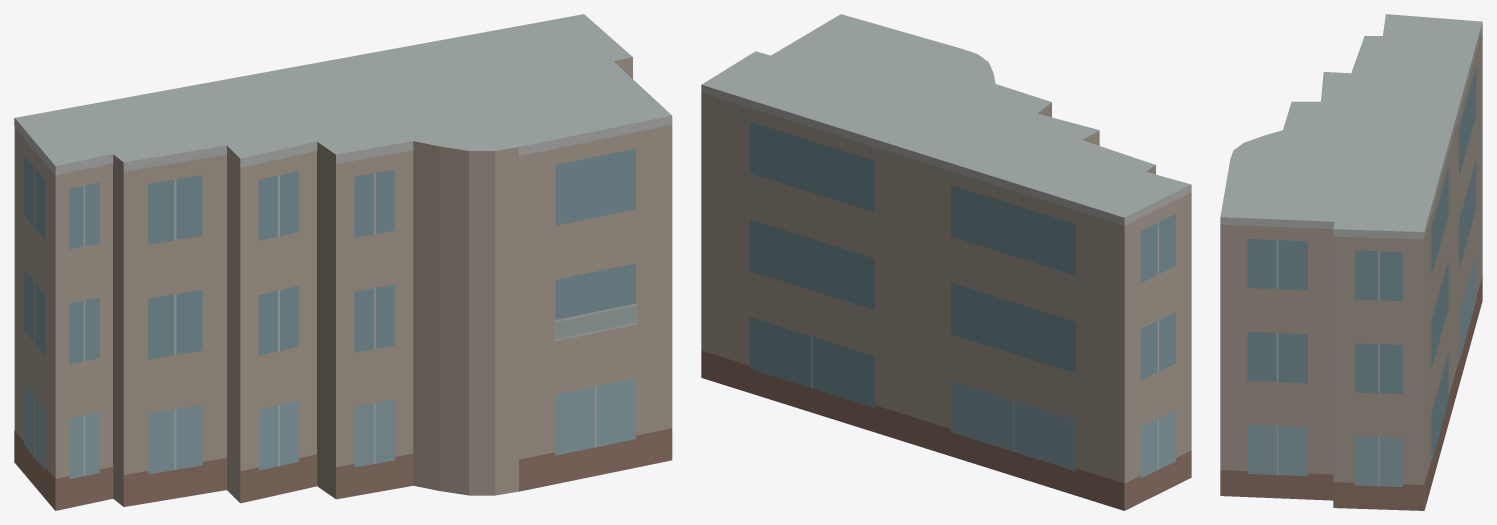
File: survey-upis-32668587.glb
The picture shows the model from 3 angles, left to right: view 1: azimuth 30°, elevation 25°; view 2: azimuth 150°, elevation 25°; view 3: azimuth 270°, elevation 25°; orthographic projection. The views are drawn at different scales.
Visible parts, largest first — view 1: survey-upis-32668587.tmp; view 2: survey-upis-32668587.tmp; view 3: survey-upis-32668587.tmp.
Boxes of the visible parts, box(x1,y1,x2,y2) form: survey-upis-32668587.tmp: box(14, 14, 672, 510); survey-upis-32668587.tmp: box(701, 14, 1191, 510); survey-upis-32668587.tmp: box(1220, 14, 1482, 510).
Size of the model in its own units: 15.36 by 9.15 by 7.81.
